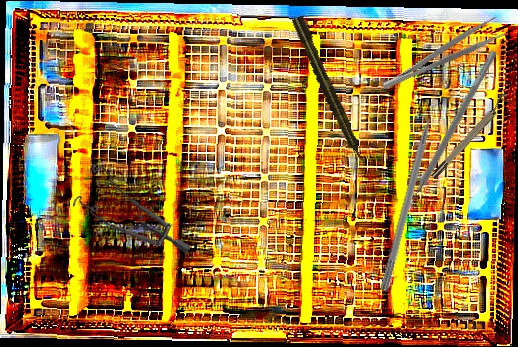Dressing Forceps: (376, 15, 505, 93)
Fixation Ring: (425, 91, 514, 181)
Handpiece: (290, 14, 369, 167)
Pusher: (379, 92, 443, 293)
Spatula Surgical: (397, 46, 498, 217)
Speculum: (69, 159, 197, 255)
